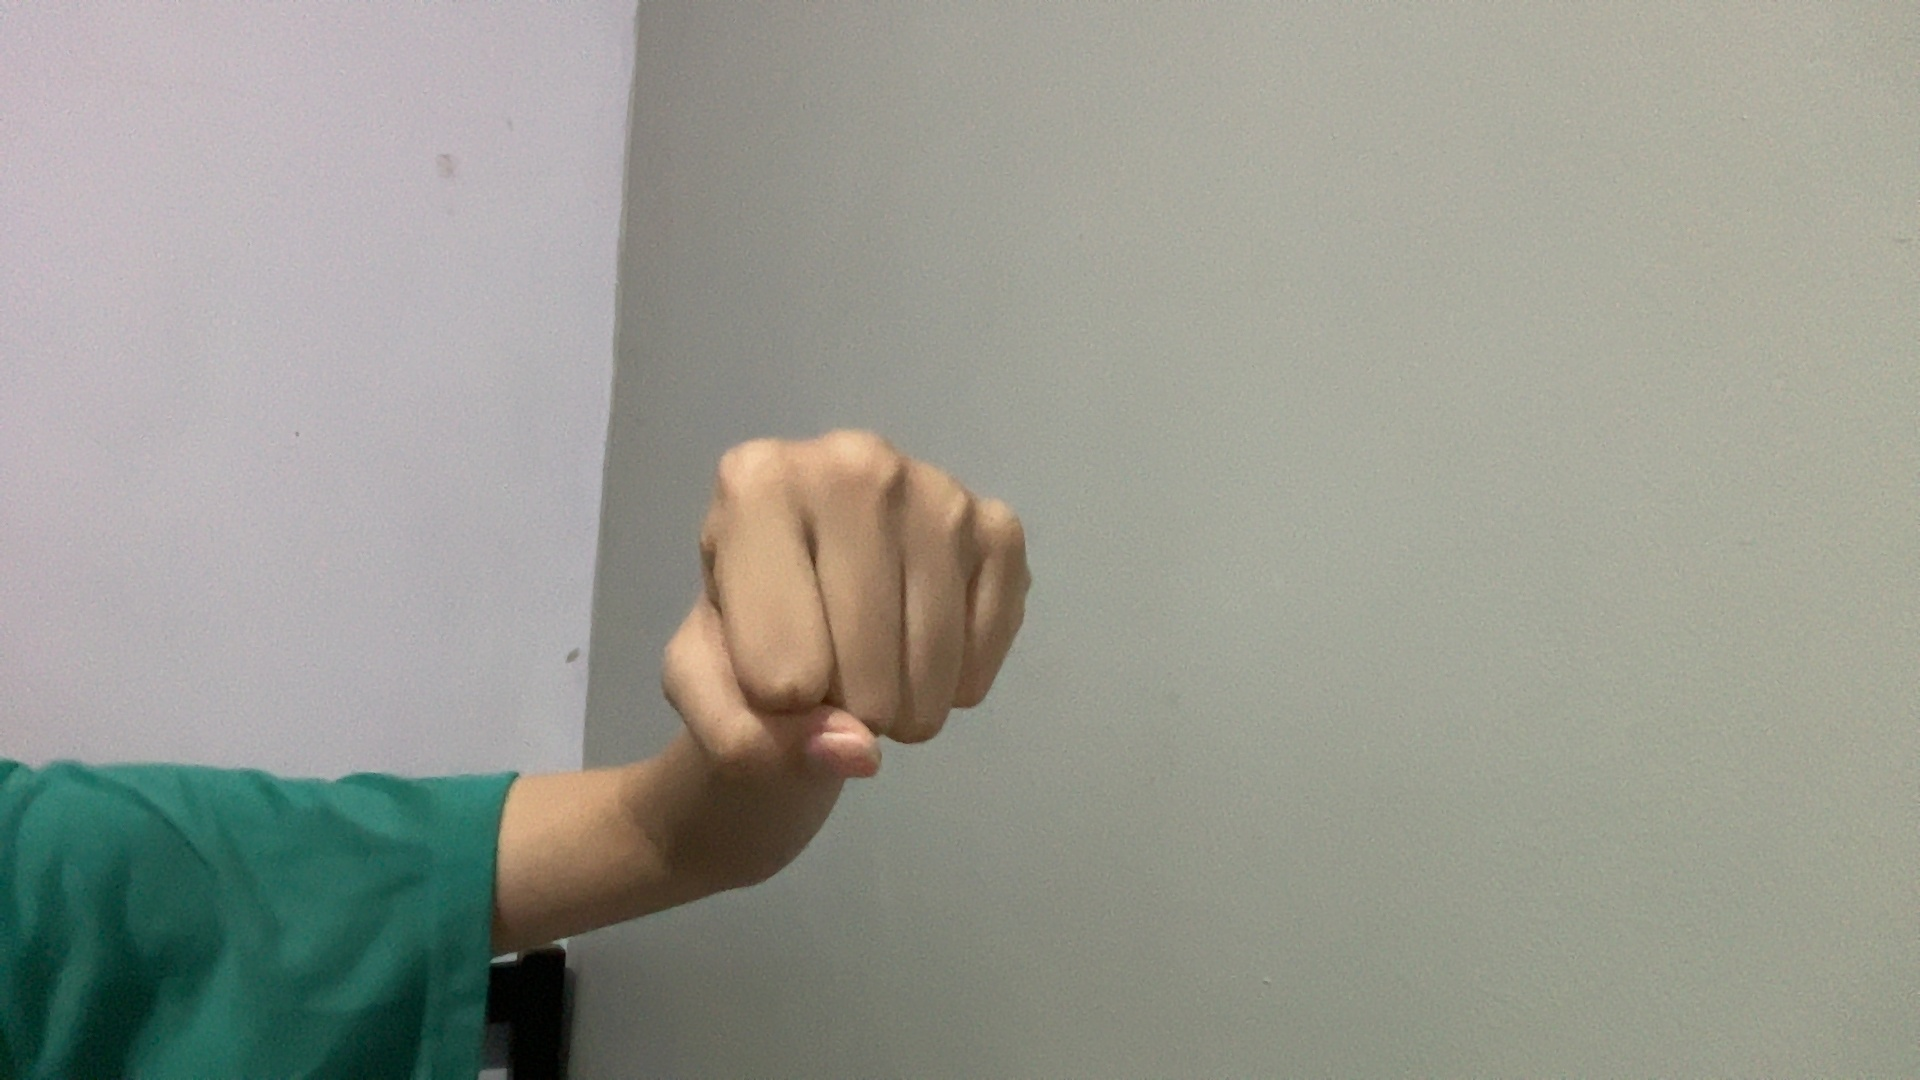Yes: (556, 382, 1156, 967)
